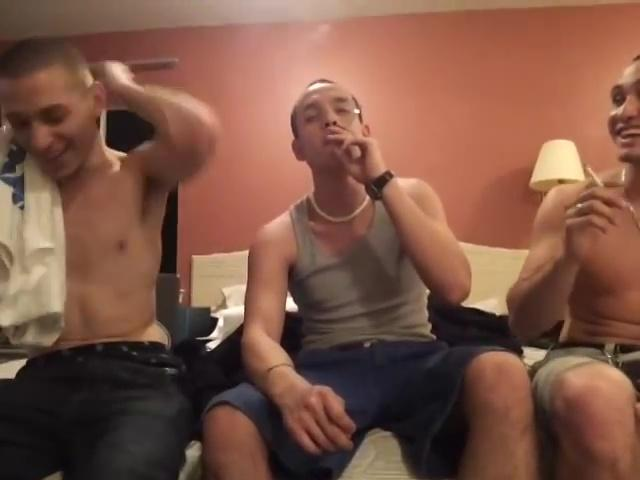cigarette: (581, 165, 609, 193), (345, 107, 361, 132)
